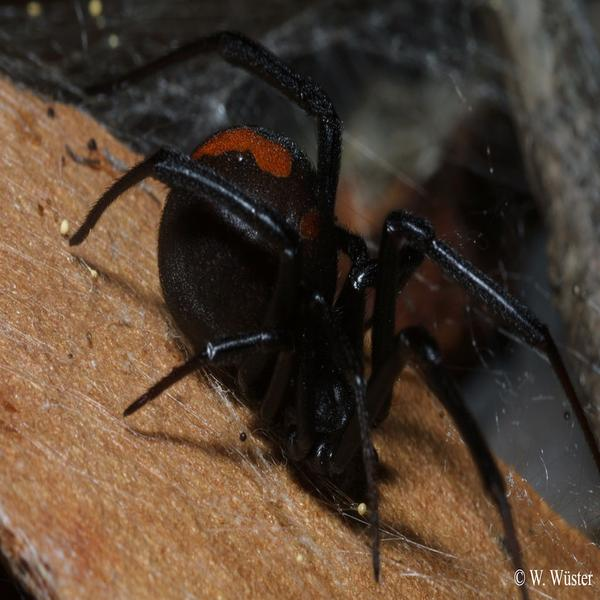Redback_Spider: (69, 30, 598, 598)
